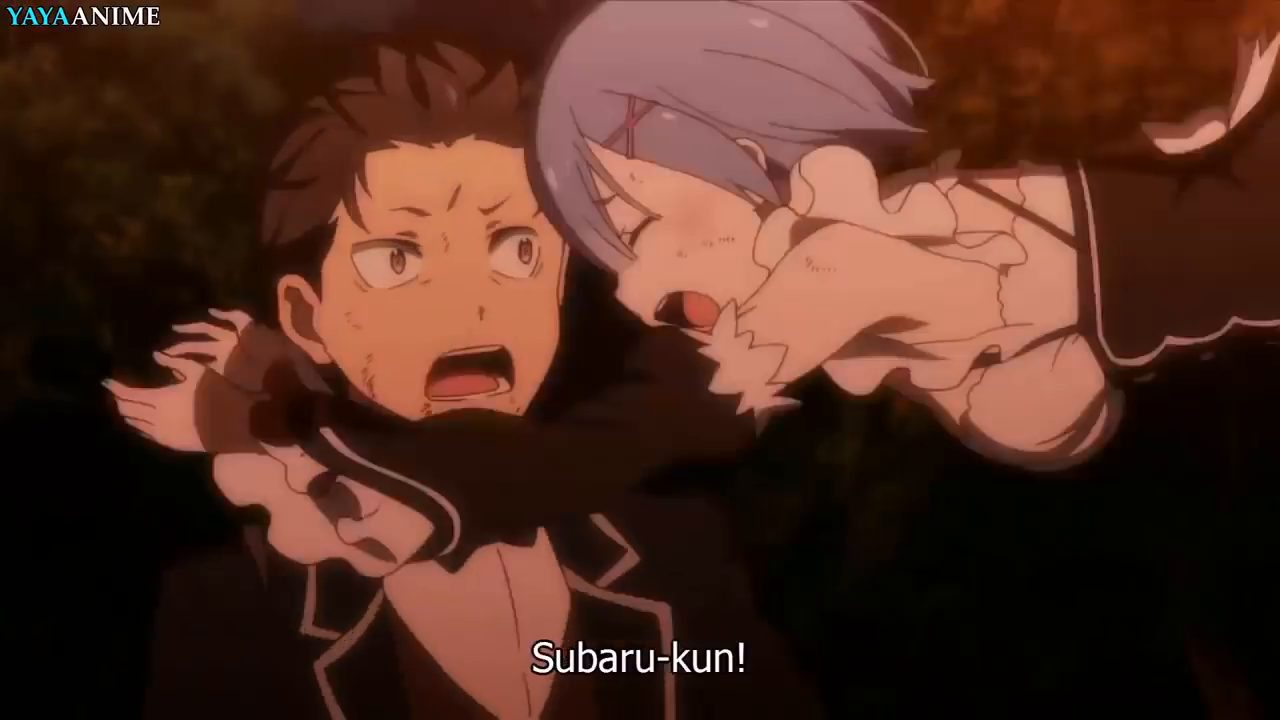REM: (521, 1, 912, 338)
